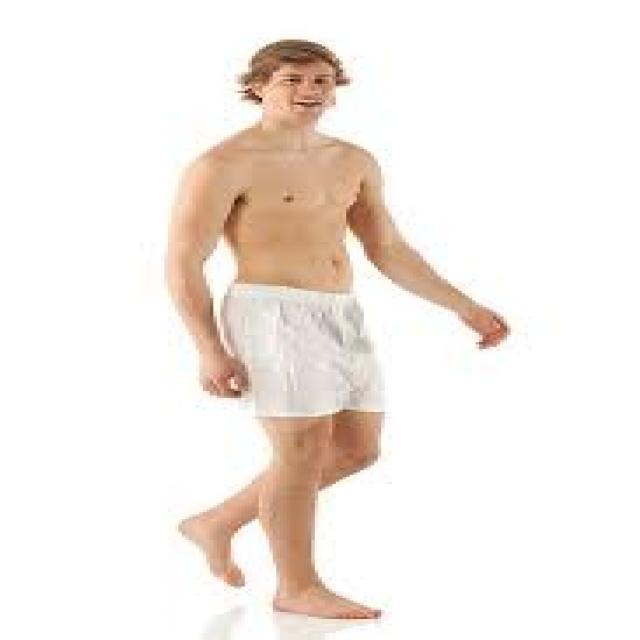No_Shoe: (176, 507, 256, 593), (263, 576, 393, 626)
